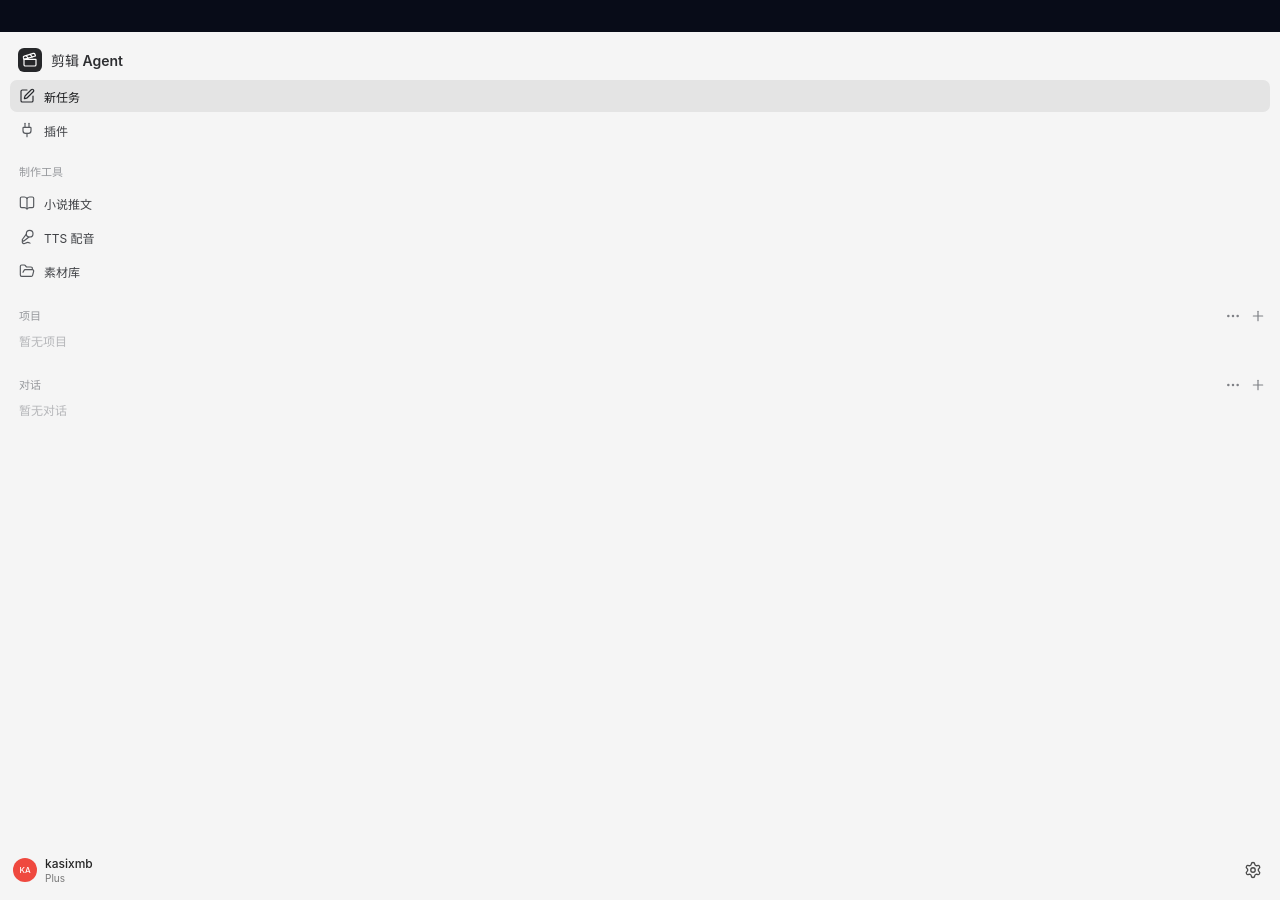
Test: Sidebar › creates a persistent project through the native directory flow
Click the button named "项目选项": x=1233, y=316 1221,304 -> 1245,328
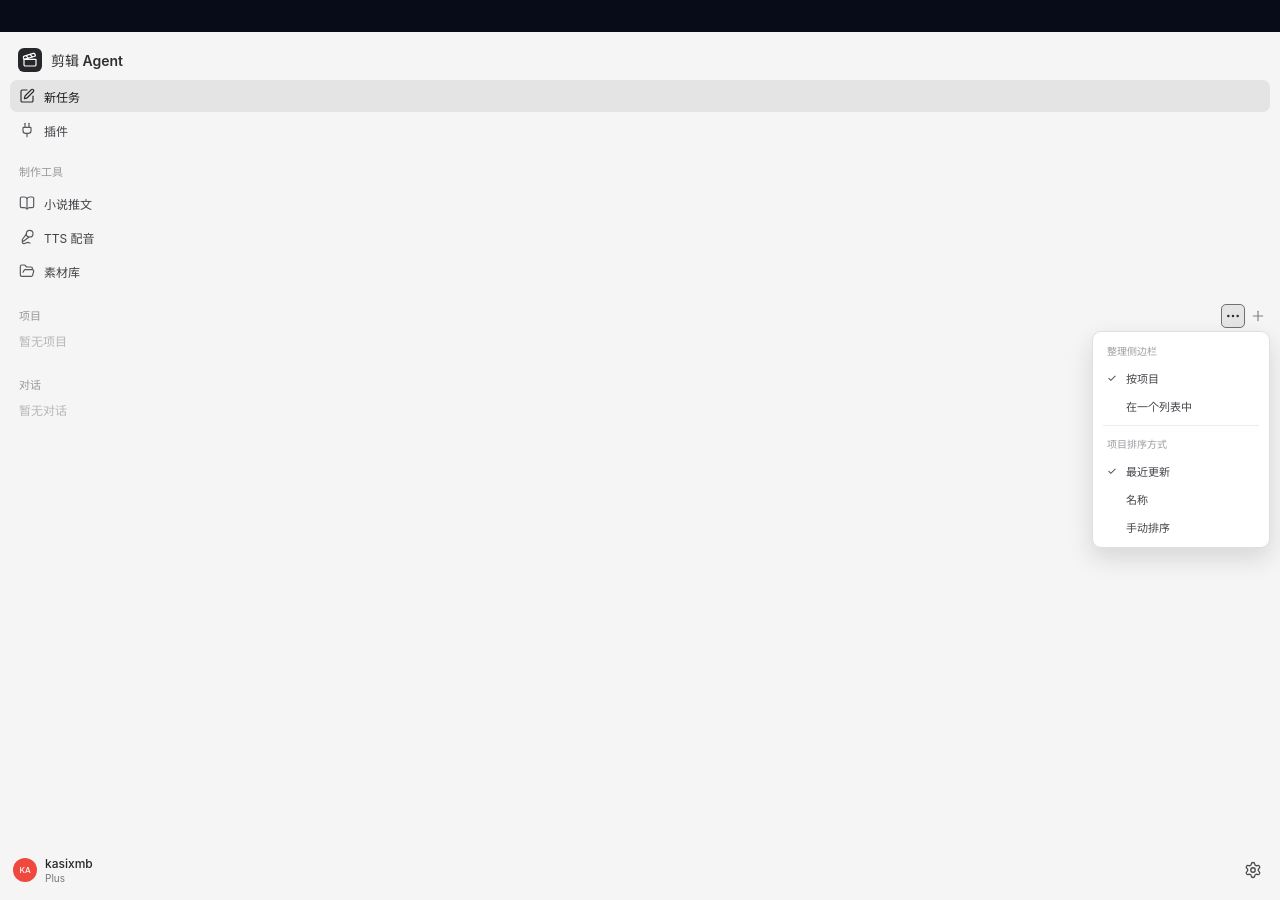
Click the button named "新建项目": x=1258, y=316 1246,304 -> 1270,328
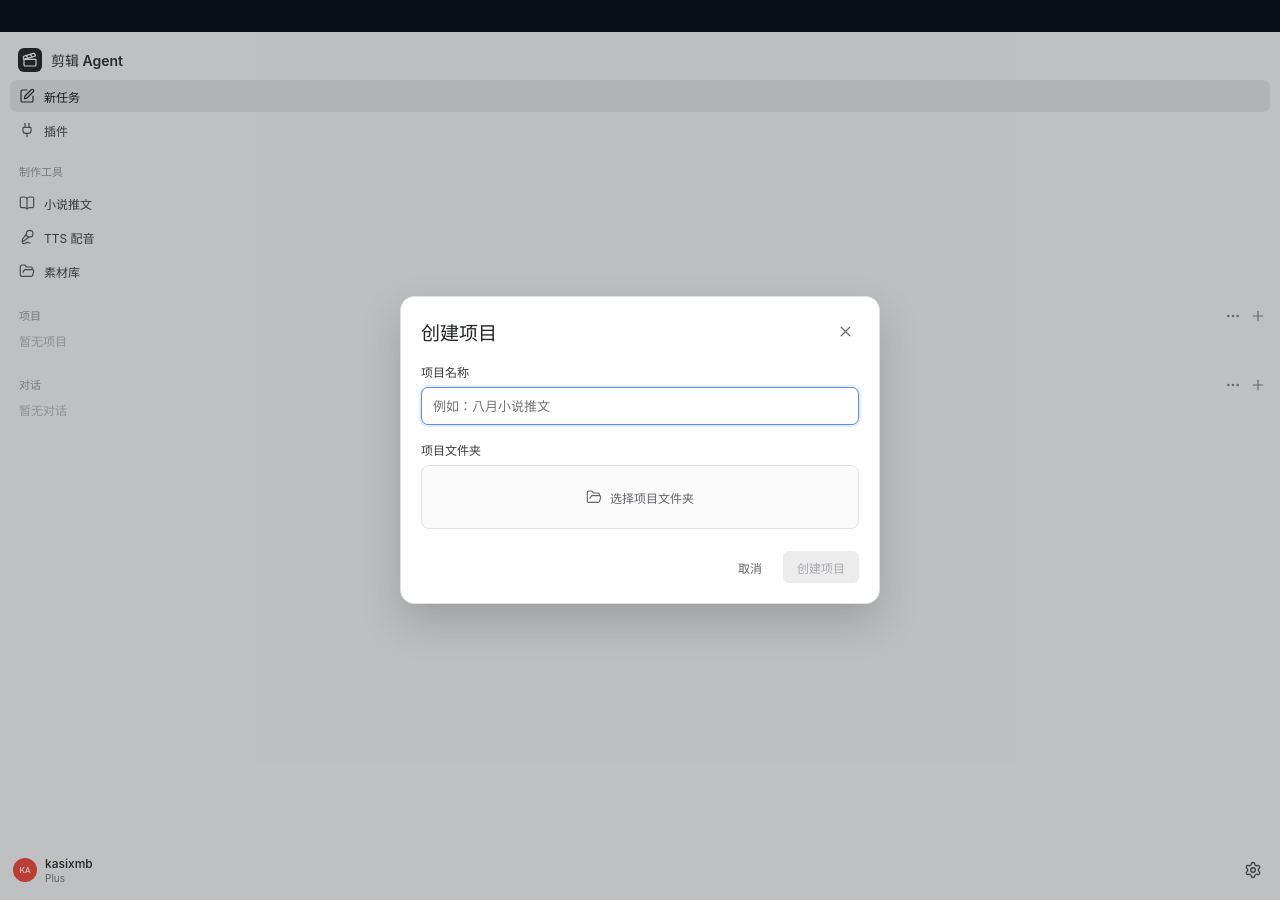
Expected: the menu "项目排序方式设置" is gone
In the field labelled "项目名称": x=640, y=406 421,387 -> 859,425, type "测试项目"
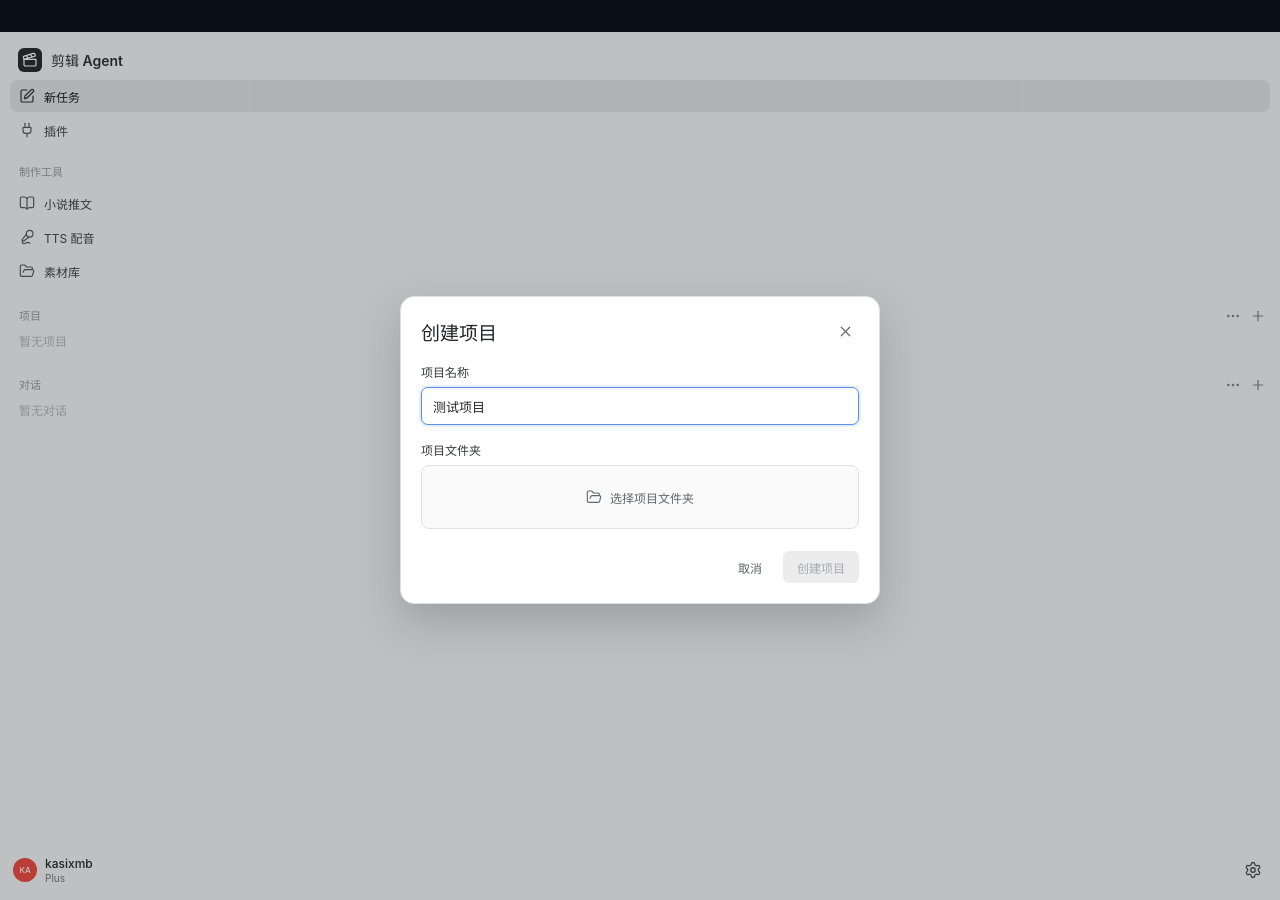
Click the button "选择项目文件夹": x=640, y=497 421,465 -> 859,529
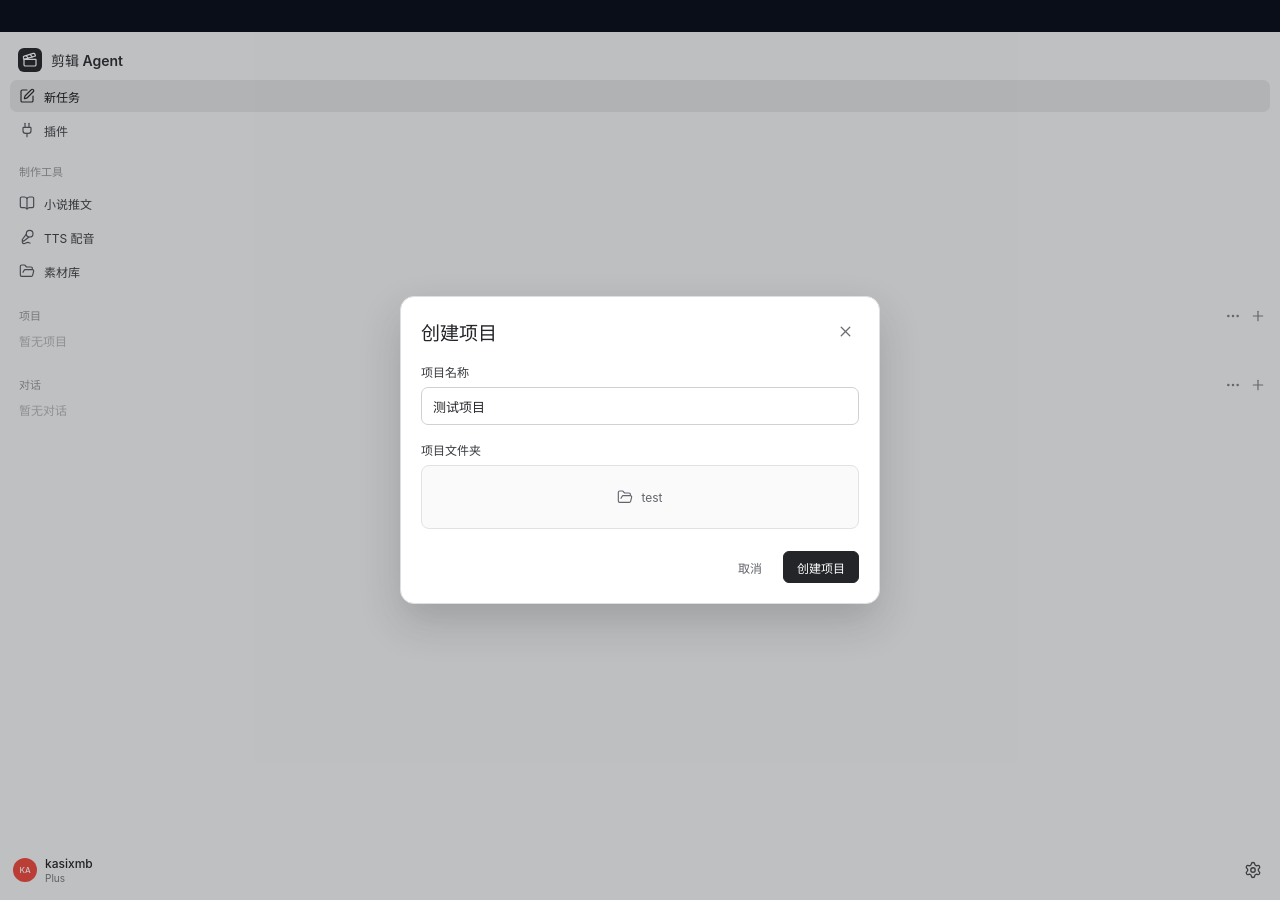
Expected: the button "test" is shown, 421,465 -> 859,529
Click the button "创建项目": x=821, y=567 783,551 -> 859,583
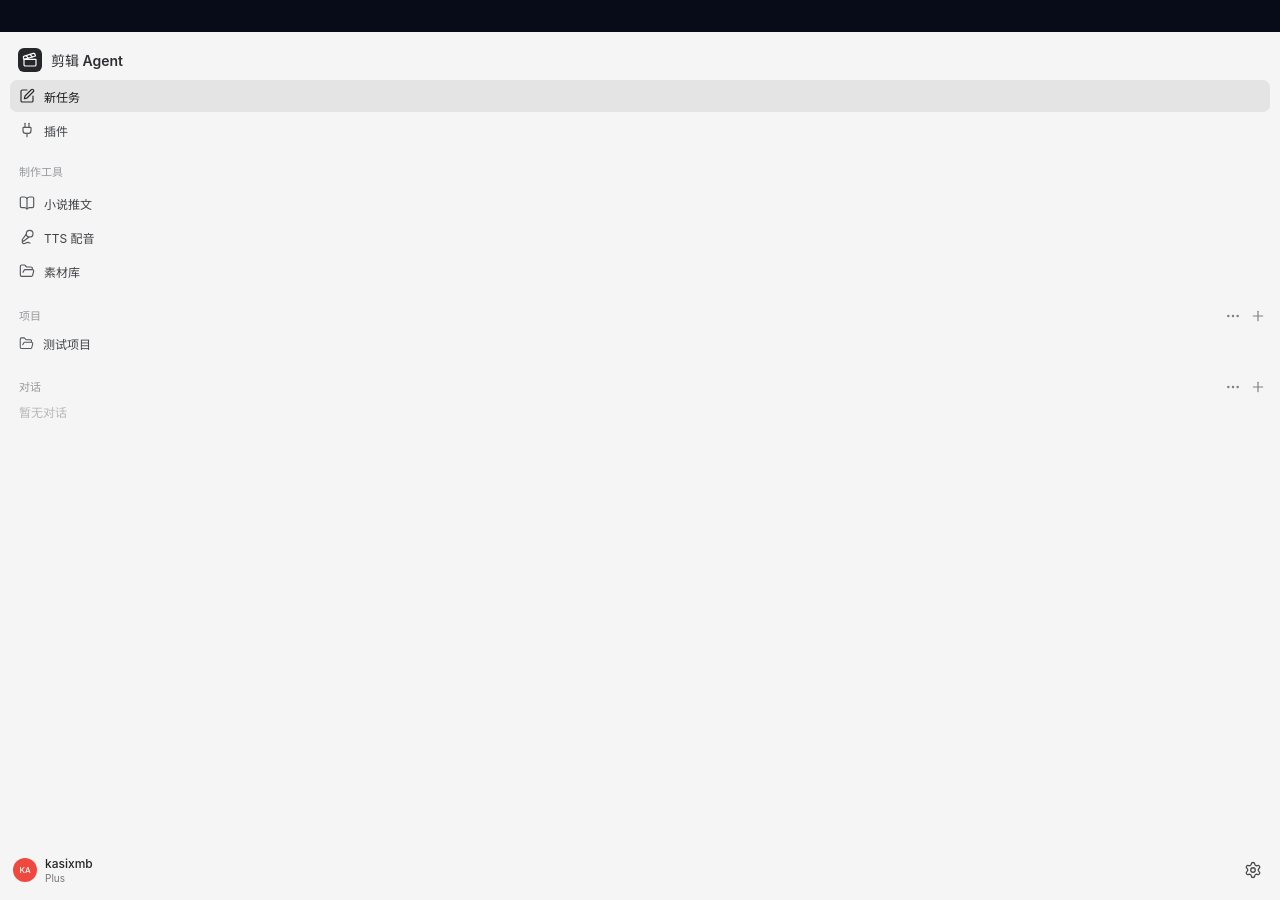
Expected: the button "测试项目" is shown, 10,328 -> 1270,358
Expected: the heading "创建项目" is gone
